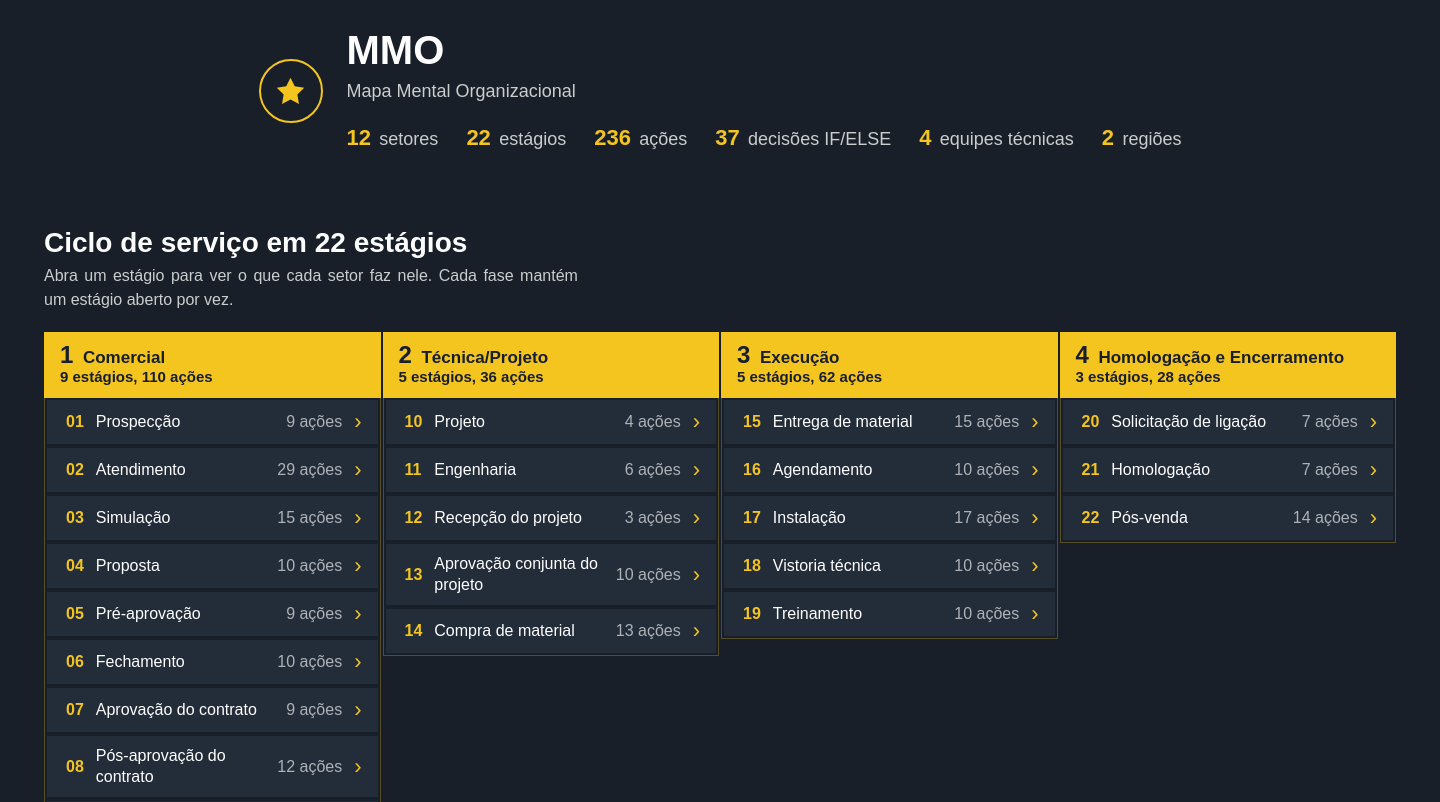
Test: tela MMO renderizada › Est. 02: abre com o clique e mostra Vendas, as ações, o IF/ELSE com ✓/✗ e as ações novas da V08
What coordinates should you click on to do the following:
click the button "02 Atendimento 29 ações ›"
I would click on:
 (141, 469)
Its box is 47,448 -> 378,492.
(page scrolled)
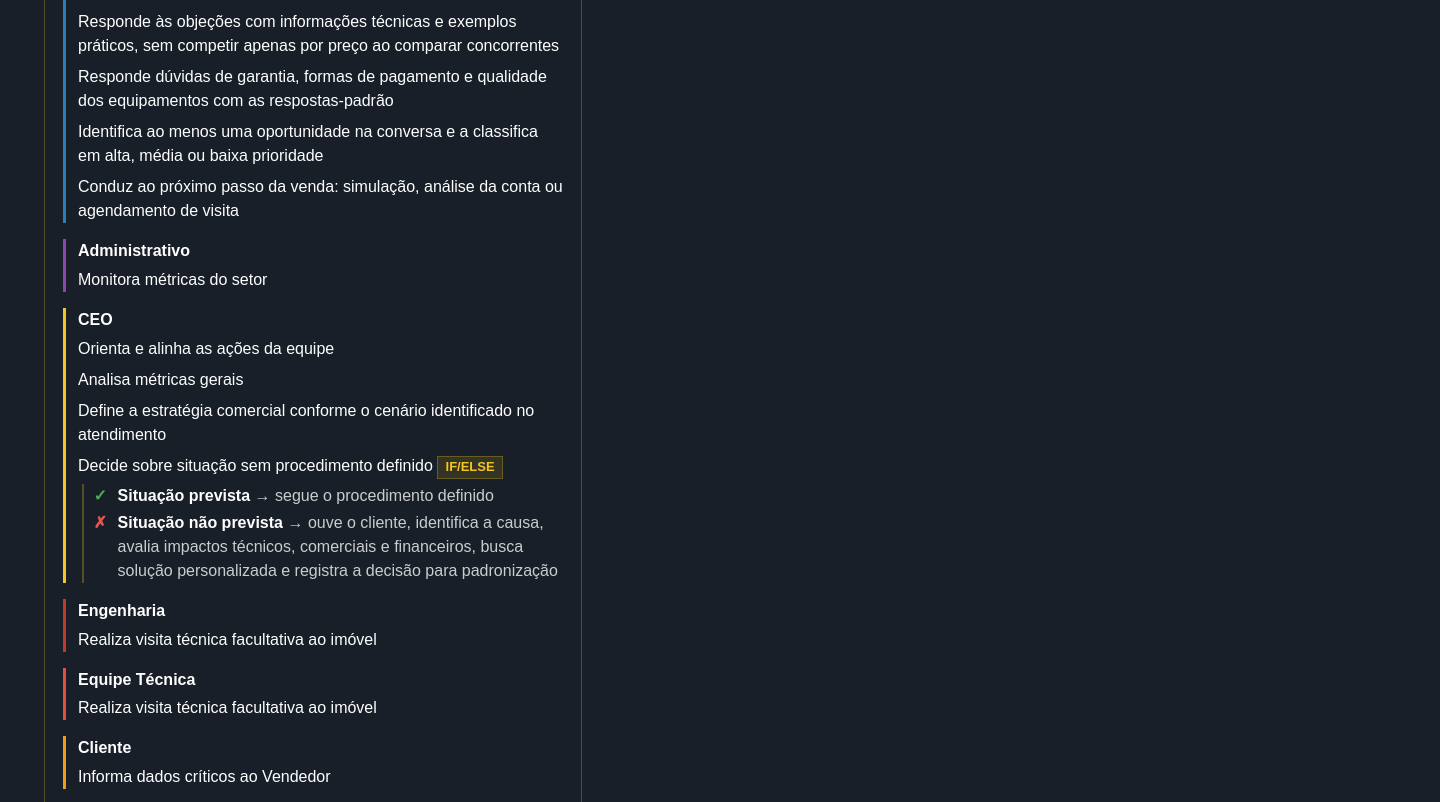
expect the element named "CEO," shows "Decide sobre situação sem procedimento definido": met, box 78,458 -> 433,474
